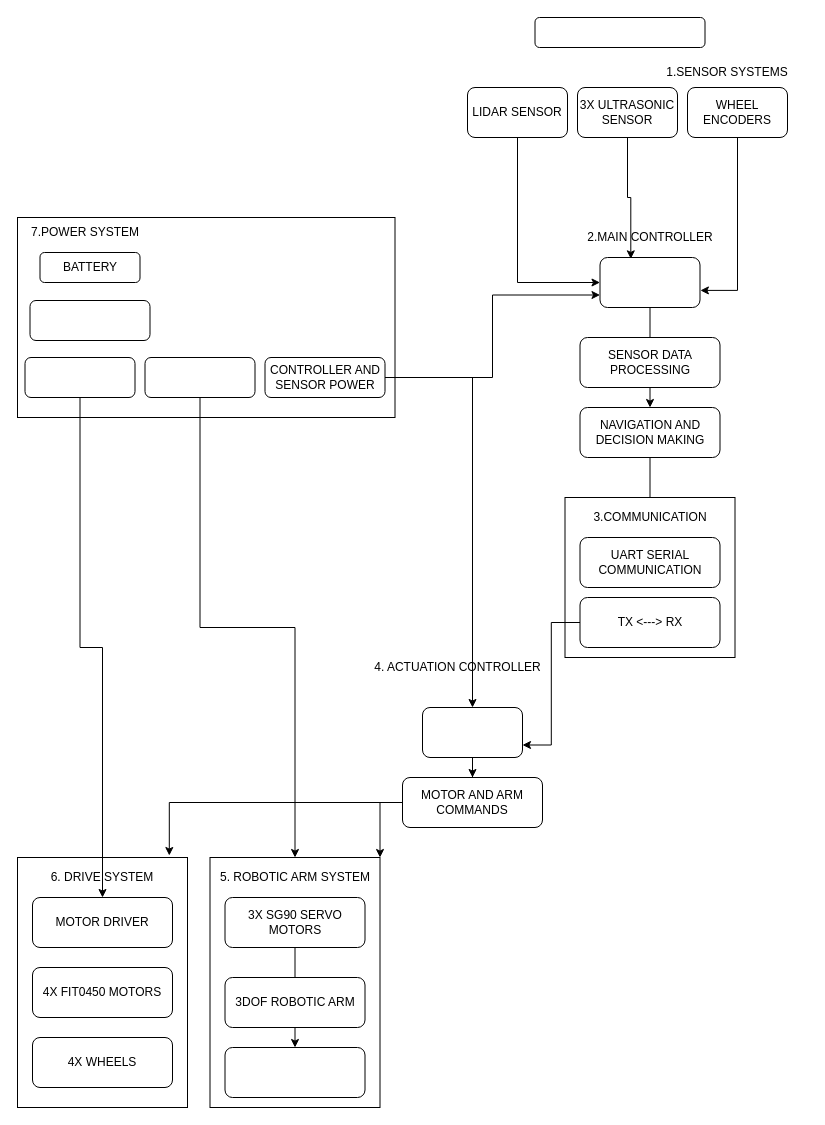
This 825x1125 diagram has some shape labels left out. The shapes that lost their labels are listed below. From the top down, each one's box as (x1, y1, x2, y2) in pixels, then its label:
(534, 16, 705, 48): ROBOT SYSTEM START
(599, 256, 700, 308): ESP32
(29, 300, 150, 340): VOLTAGE REGULATION
(24, 356, 135, 398): MOTOR POWER
(144, 356, 255, 398): EXTERNAL 5V SERVO SUPPLY
(422, 706, 522, 758): KEYESTUDIO UNO PLUS
(224, 1046, 365, 1098): GRIPPER
